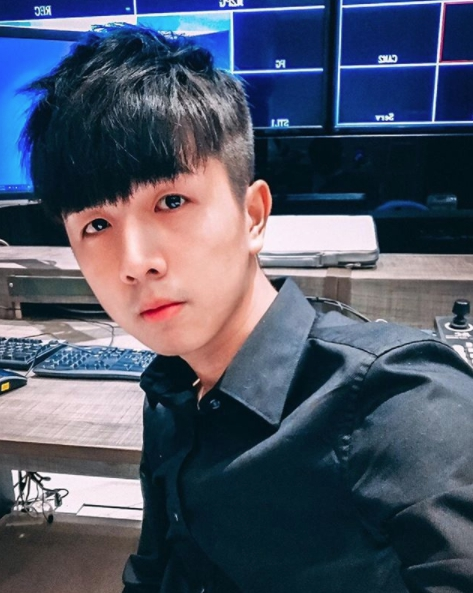people: (29, 29, 399, 593)
